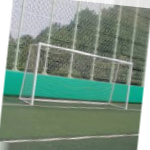goals: (16, 41, 133, 113)
